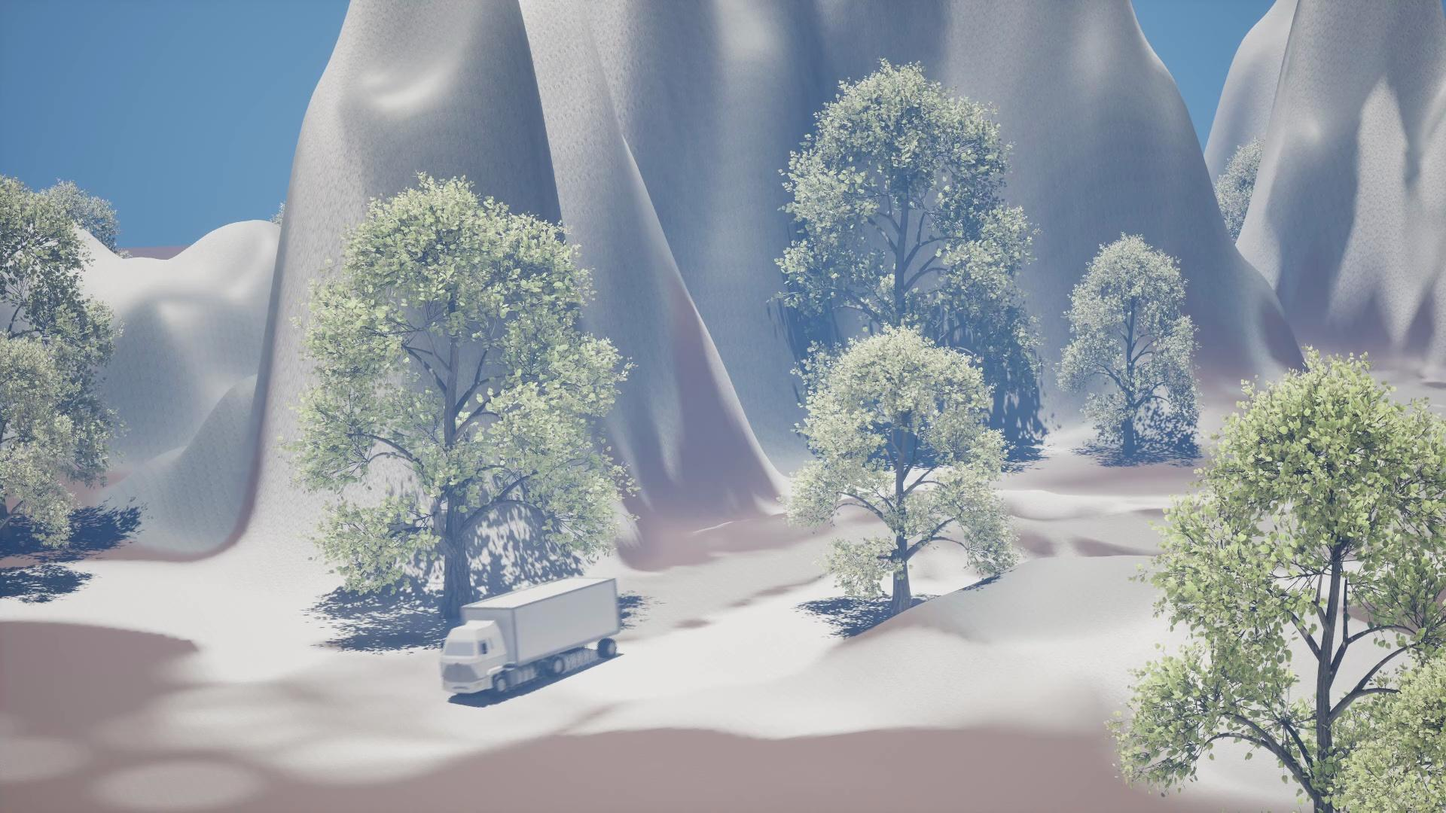truck: (438, 590, 622, 681)
